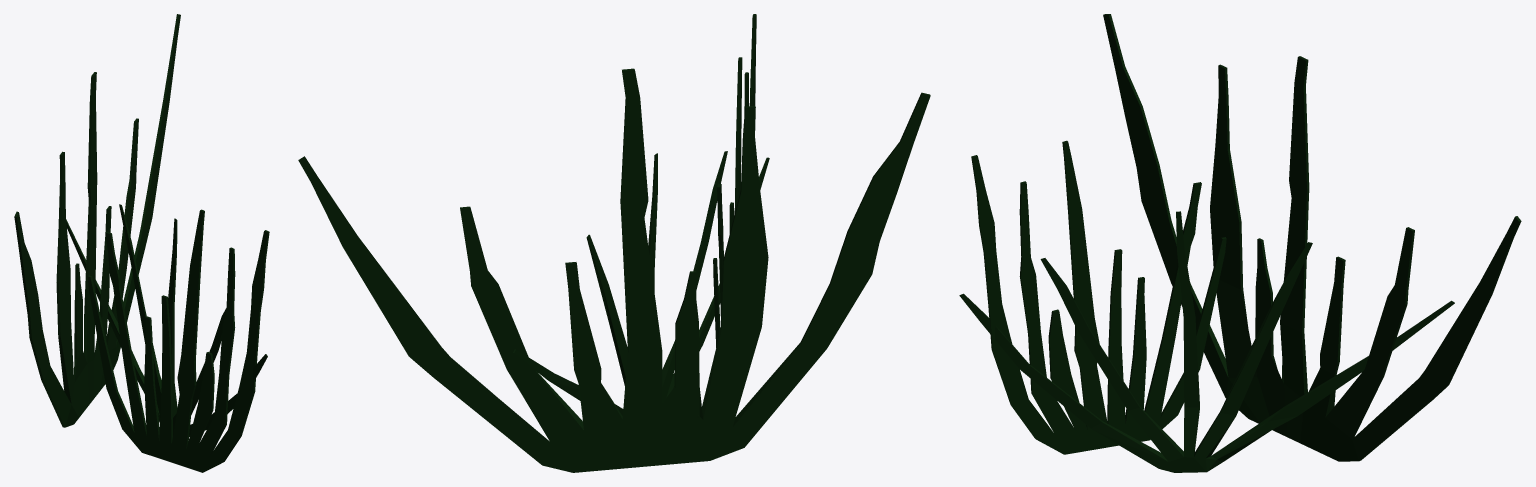
File: Seaweed_Cluster.obj
3 views of the same model, side by side, from view 1: azimuth 30°, elevation 25°; view 2: azimuth 150°, elevation 25°; view 3: azimuth 270°, elevation 25° (orthographic). The views are drawn at different scales.
Bounding box in the file's own units: 3.1 × 2.88 × 3.72.
